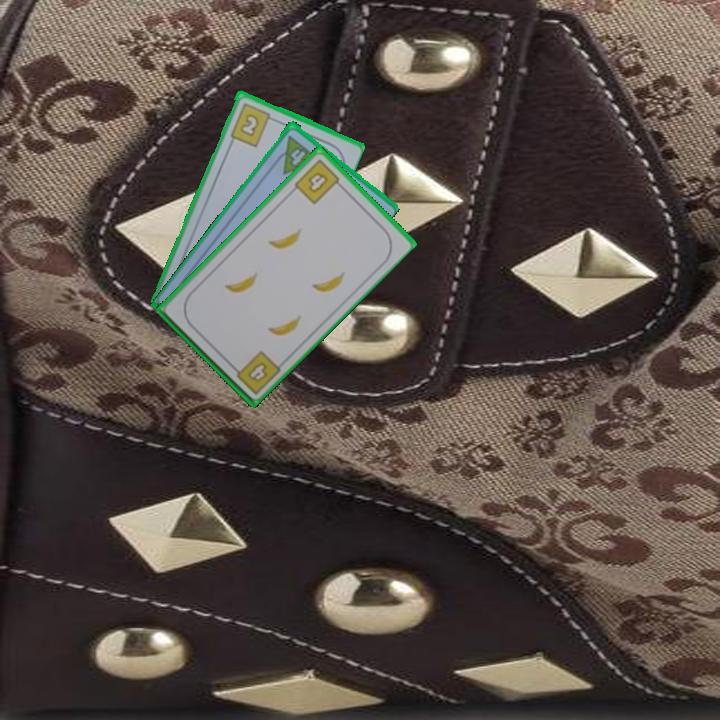2b: (227, 99, 278, 149)
4b: (291, 155, 346, 207), (227, 347, 283, 397)
4p: (269, 131, 322, 177)
